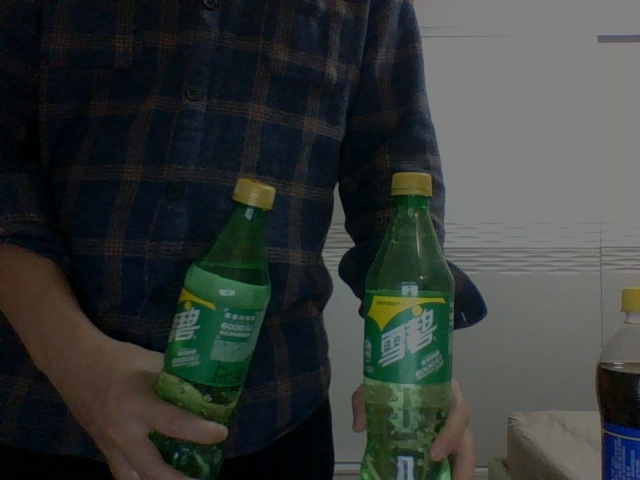Cola: (600, 286, 640, 476)
Sprite: (152, 177, 275, 474), (363, 173, 453, 478)
